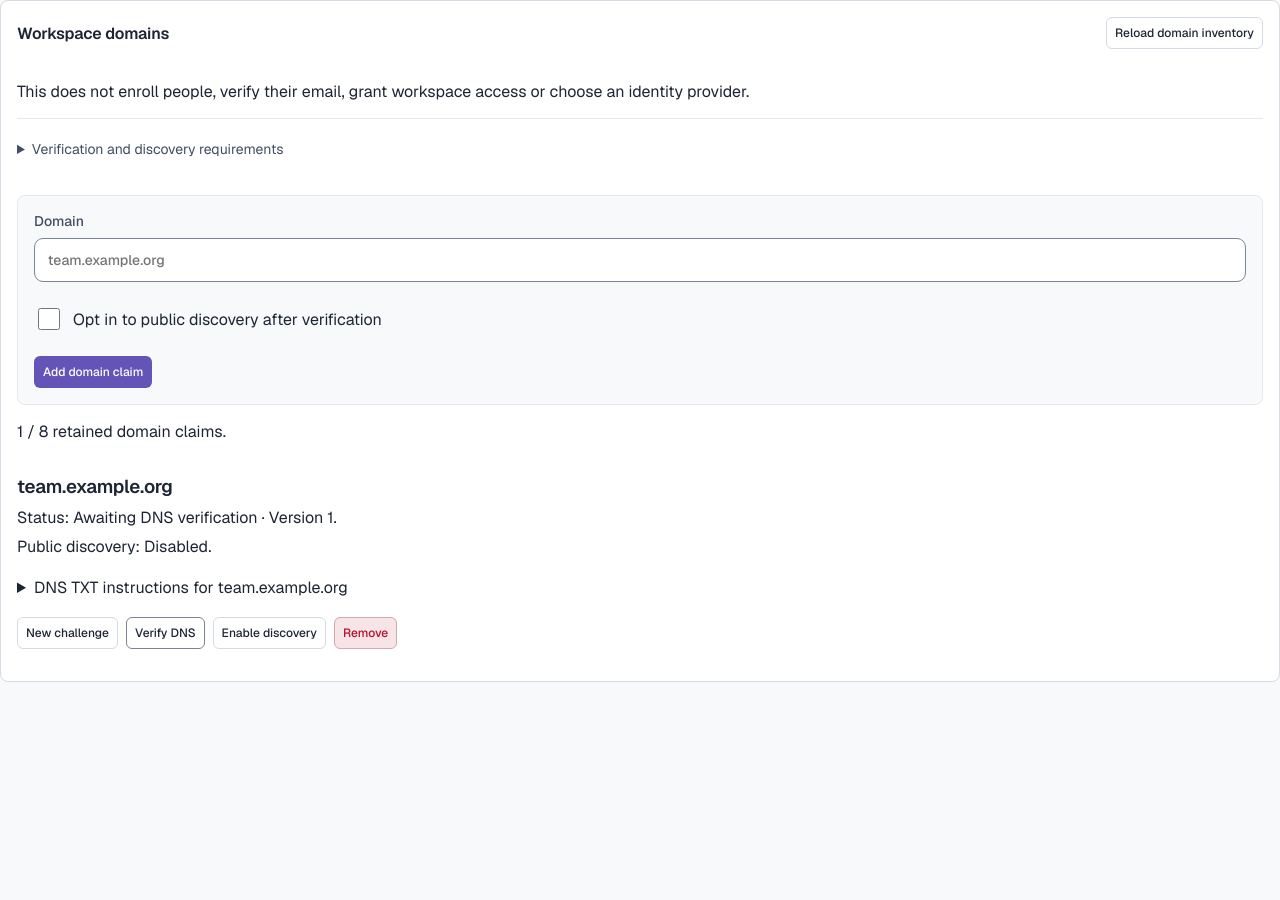
Test: Workspace domain administration › reloads stale versions while preserving the explicit intended change for reviewed retry
Click the button with aria-label "Enable discovery for team.example.org" at coordinates (269, 633), box [213,617,326,649]
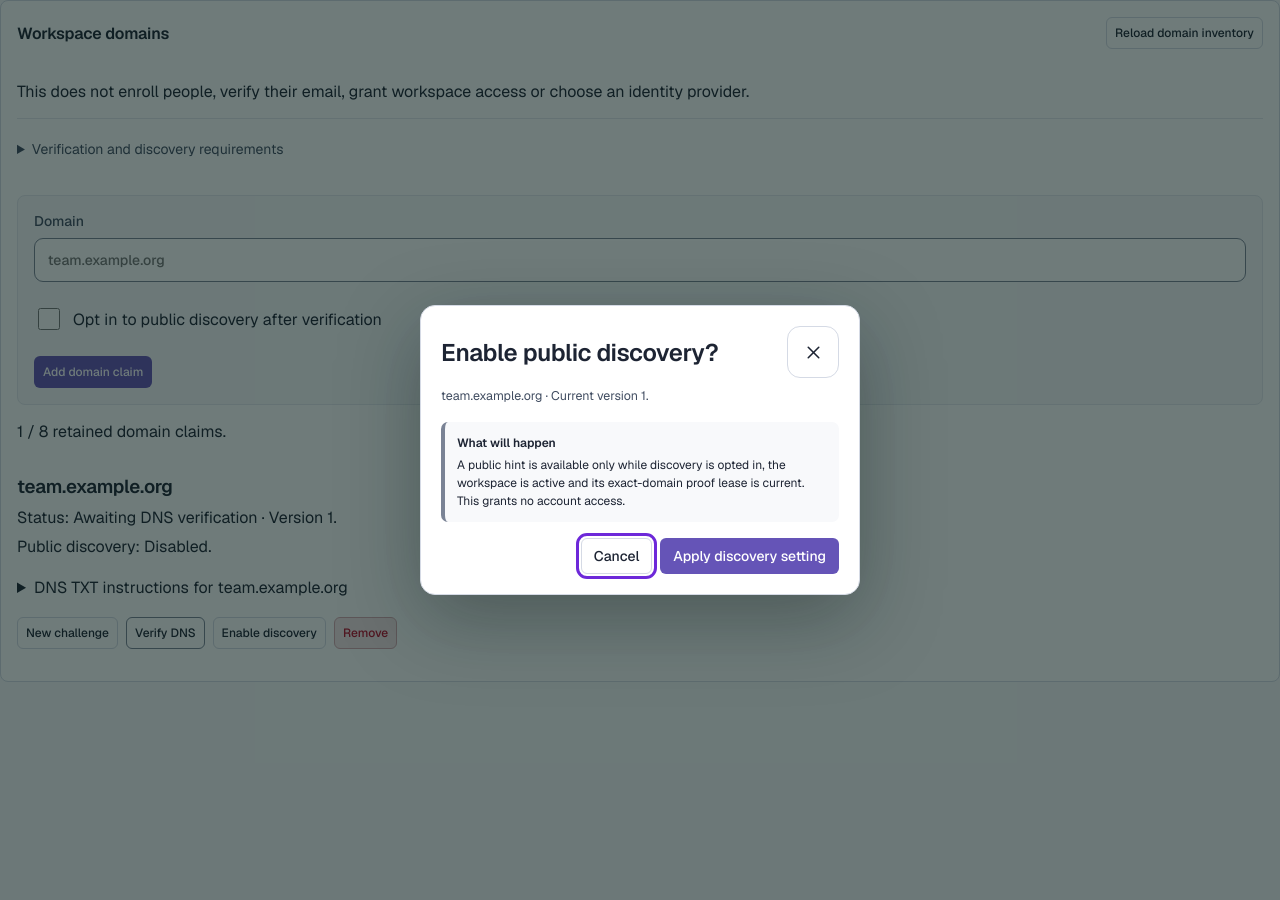
Click the button "Apply discovery setting" at coordinates (750, 556), box [660,538,839,574]
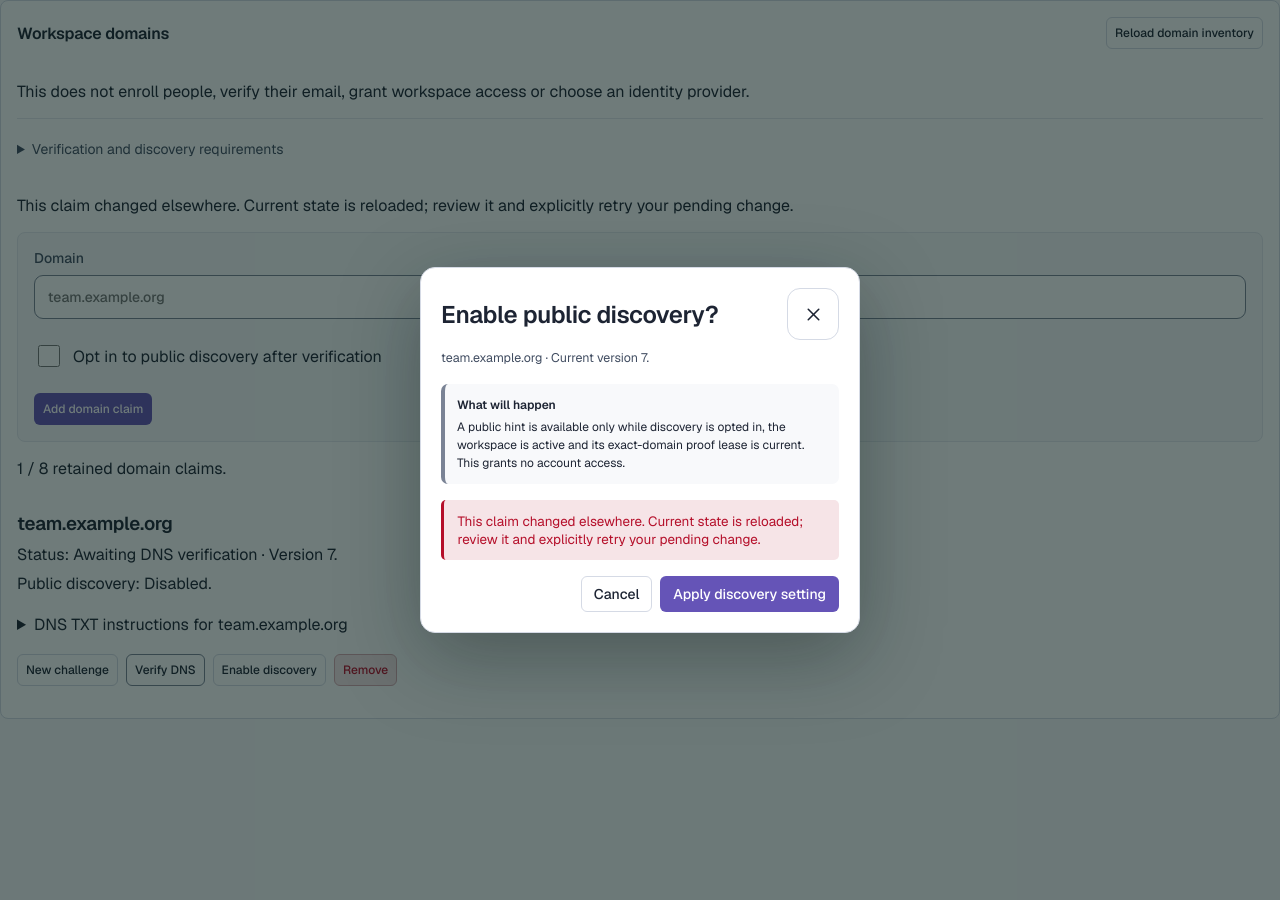
Now the text "team.example.org · Current version 7." is shown, box [441,349,649,366]
Now the dialog shows "review it and explicitly retry", box [458,512,803,548]
Click the button "Apply discovery setting" at coordinates (750, 594), box [660,576,839,612]
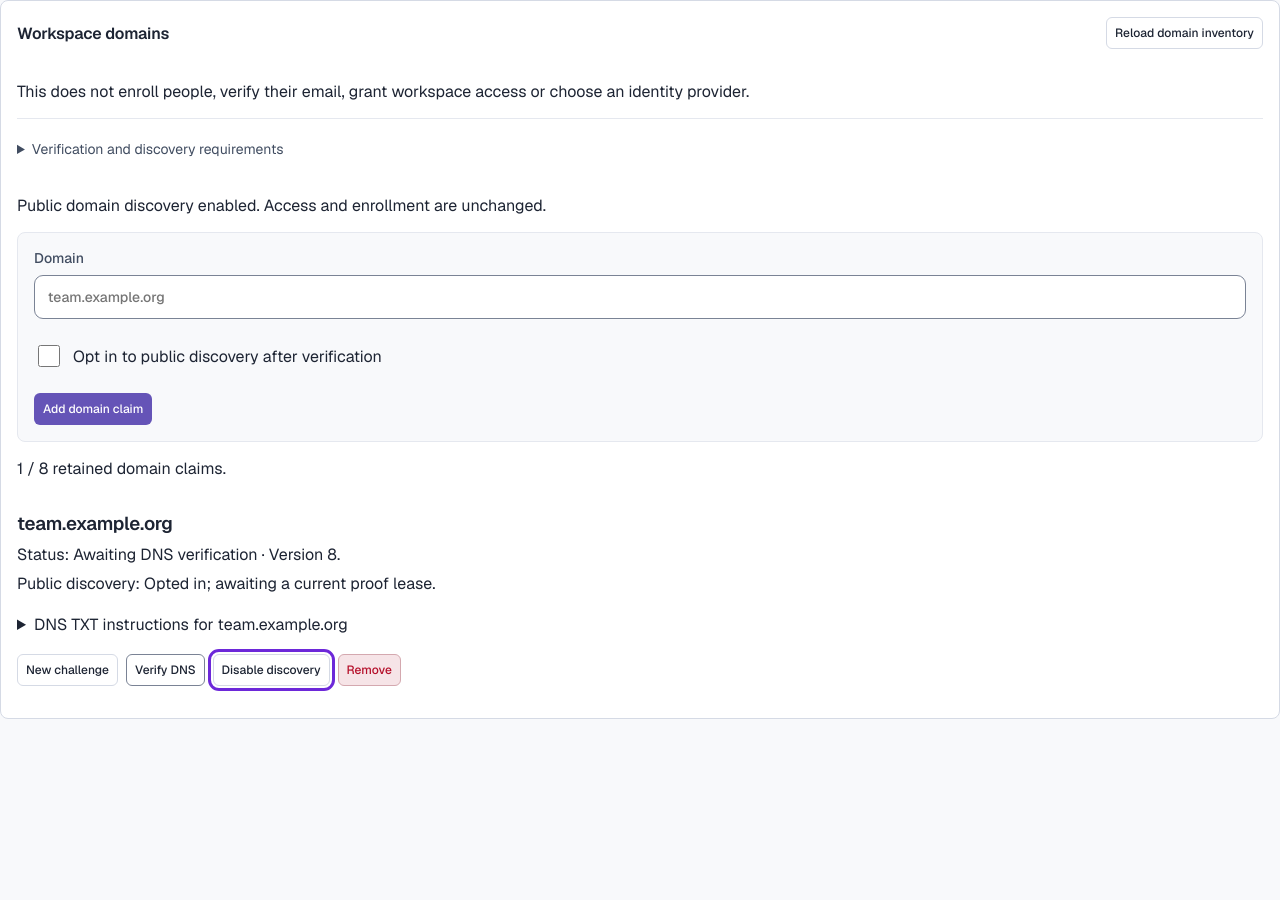
Now the text "Public discovery: Opted in; awaiting a current proof lease." is shown, box [17,573,435,594]
